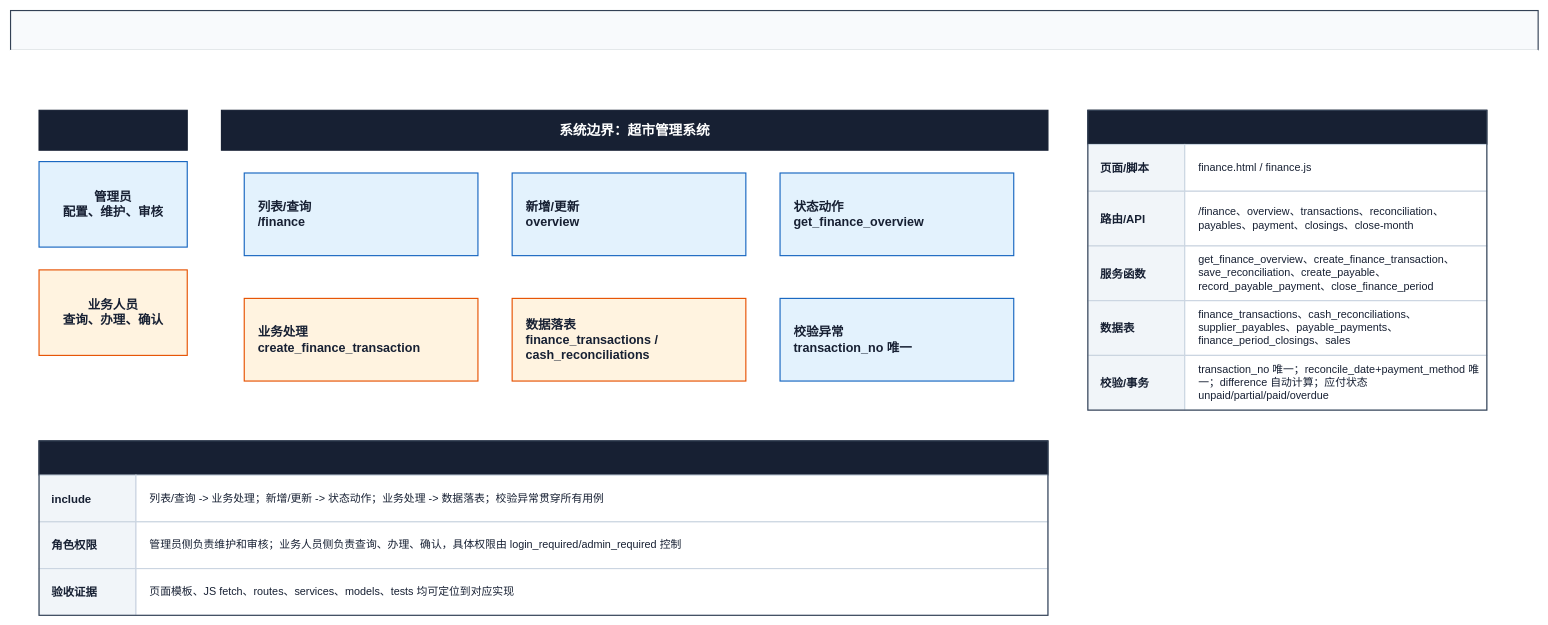
The diagram is 1548 pixels wide and 625 high, and some of its shapes have lost their labels. The shapes that lost their labels are listed below. From the top down, each one's box as (x1, y1, x2, y2) in pixels, then its label:
(10, 10, 1538, 51): 财务管理用例图
(10, 50, 1538, 74): 模块级用例矩阵｜角色｜用例｜实现入口｜校验点
(38, 109, 188, 150): 角色
(1087, 109, 1487, 145): 实现明细
(38, 440, 1048, 475): 用例依赖
